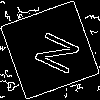N: (25, 25, 81, 77)
